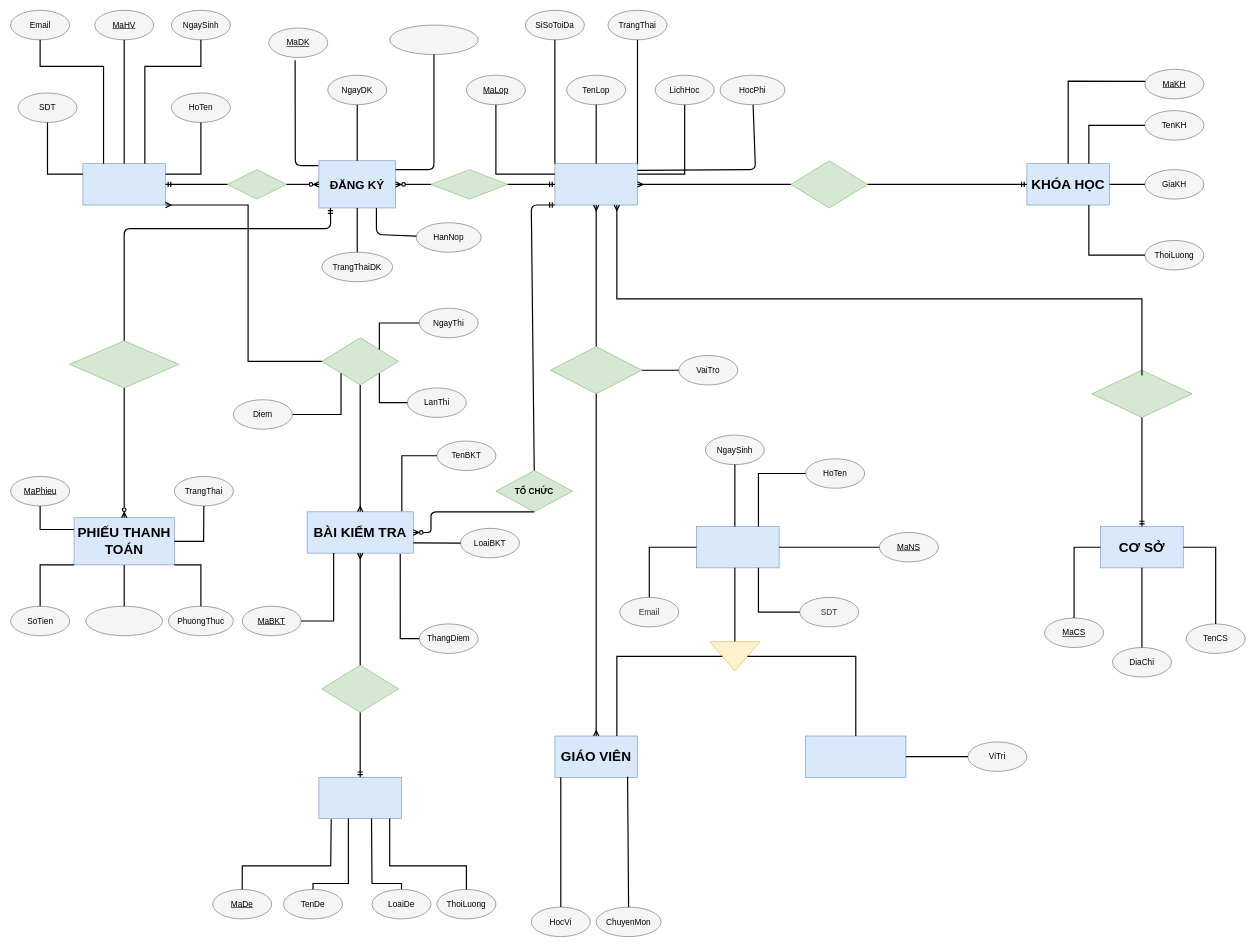
This 1256x947 diagram has some shape labels left out. The box of each missing label's shape, as (x1, y1, x2, y2) in pixels:
CÓ: (227, 169, 286, 199)
GIẢNG DẠY: (550, 346, 642, 394)
HỌC VIÊN: (82, 163, 165, 205)
ISA: (709, 641, 760, 671)
KhoanPhaiThu: (389, 24, 478, 55)
LÀM BÀI: (321, 337, 399, 385)
LỚP HỌC: (554, 163, 637, 205)
NgayThanhToan: (85, 606, 163, 636)
NHÂN SỰ: (696, 526, 779, 568)
NHÂN VIÊN: (805, 735, 906, 777)
SỬ DỤNG: (321, 665, 399, 712)
THANH TOÁN: (69, 340, 179, 388)
THUỘC: (790, 160, 868, 208)
TIẾP NHẬN: (430, 169, 508, 199)
TỔ CHỨC TẠI: (1091, 370, 1192, 417)
ĐỀ THI: (318, 777, 401, 819)
